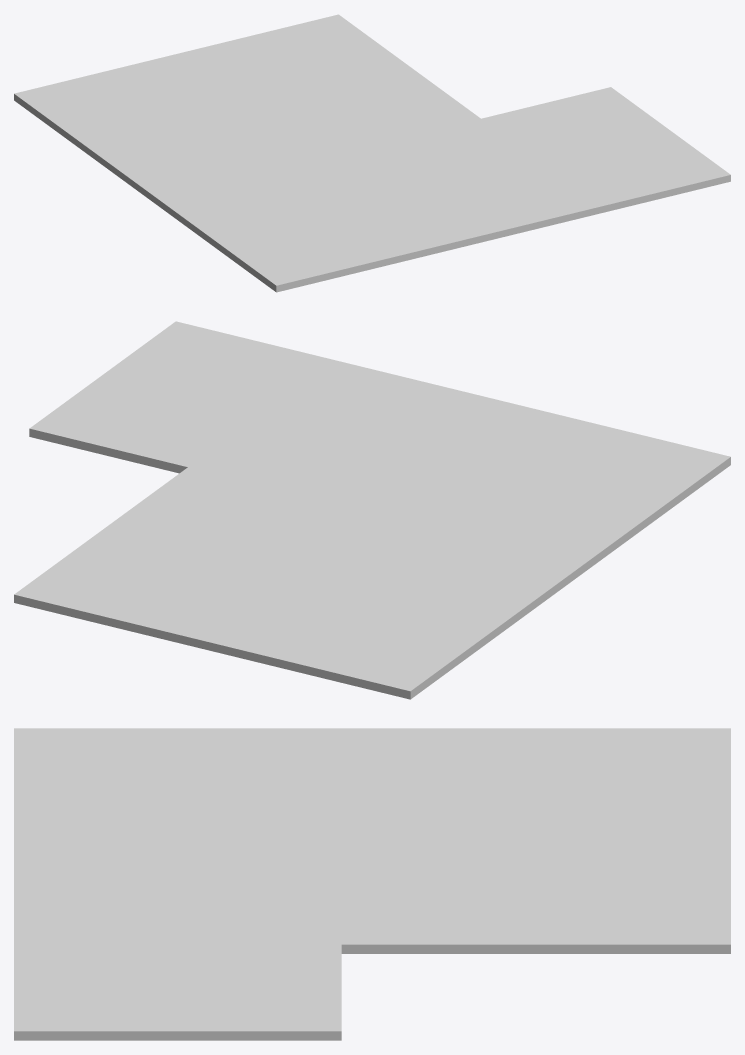
The model's file is FLOOR1.fbx.
3 renders of one model, top to bottom at view 1: azimuth 30°, elevation 25°; view 2: azimuth 150°, elevation 25°; view 3: azimuth 270°, elevation 25°, orthographic. The views are drawn at different scales.
Parts seen in each view (by area): view 1: Cube; view 2: Cube; view 3: Cube.
Boxes of the visible parts, bbox=[...] form: Cube: bbox=[14, 14, 730, 292]; Cube: bbox=[14, 321, 730, 699]; Cube: bbox=[14, 728, 730, 1040].
Bounding box in the file's own units: 7000 × 100 × 7000.
